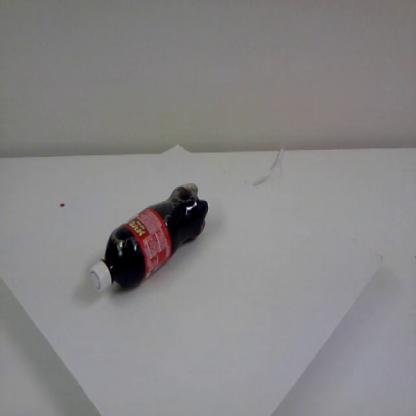bottle: (87, 180, 211, 296)
